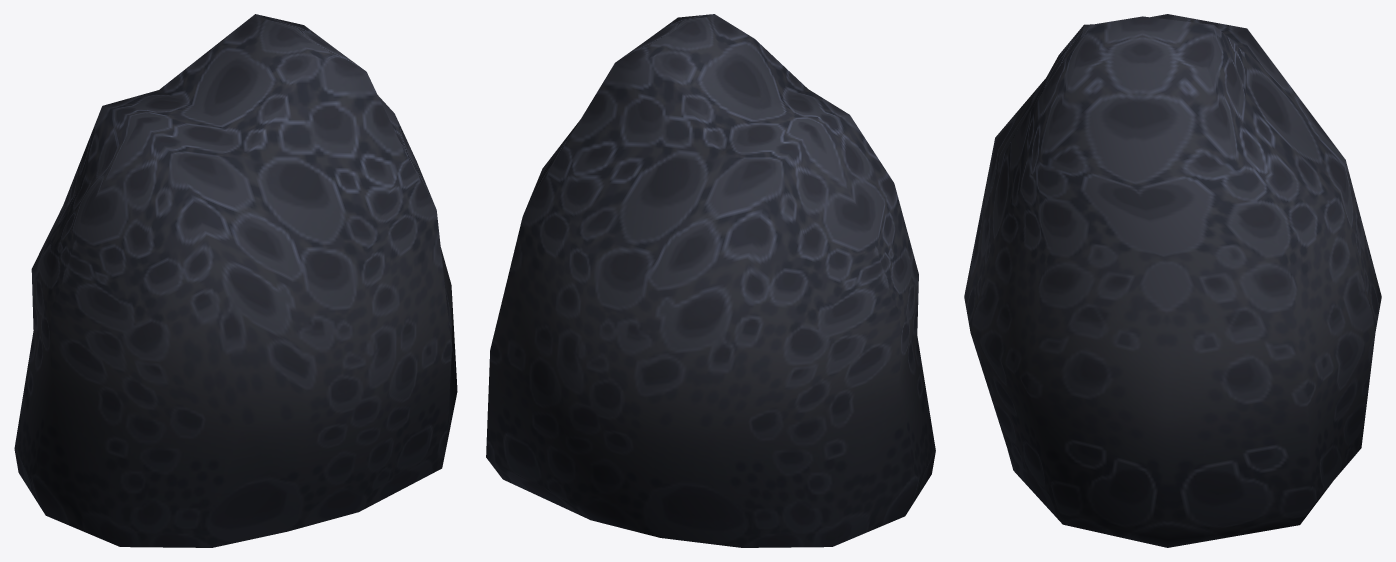
Rendered from Rock_02a.FBX.
3 renders of one model, left to right at view 1: azimuth 30°, elevation 25°; view 2: azimuth 150°, elevation 25°; view 3: azimuth 270°, elevation 25°, orthographic. The views are drawn at different scales.
Visible parts, largest first — view 1: Rock_02a; view 2: Rock_02a; view 3: Rock_02a.
Boxes of the visible parts, x1,y1,x2,y2 form: Rock_02a: [14, 14, 457, 547]; Rock_02a: [486, 14, 935, 547]; Rock_02a: [964, 14, 1381, 547].
Bounding box in the file's own units: 72.35 × 71.5 × 60.02.
